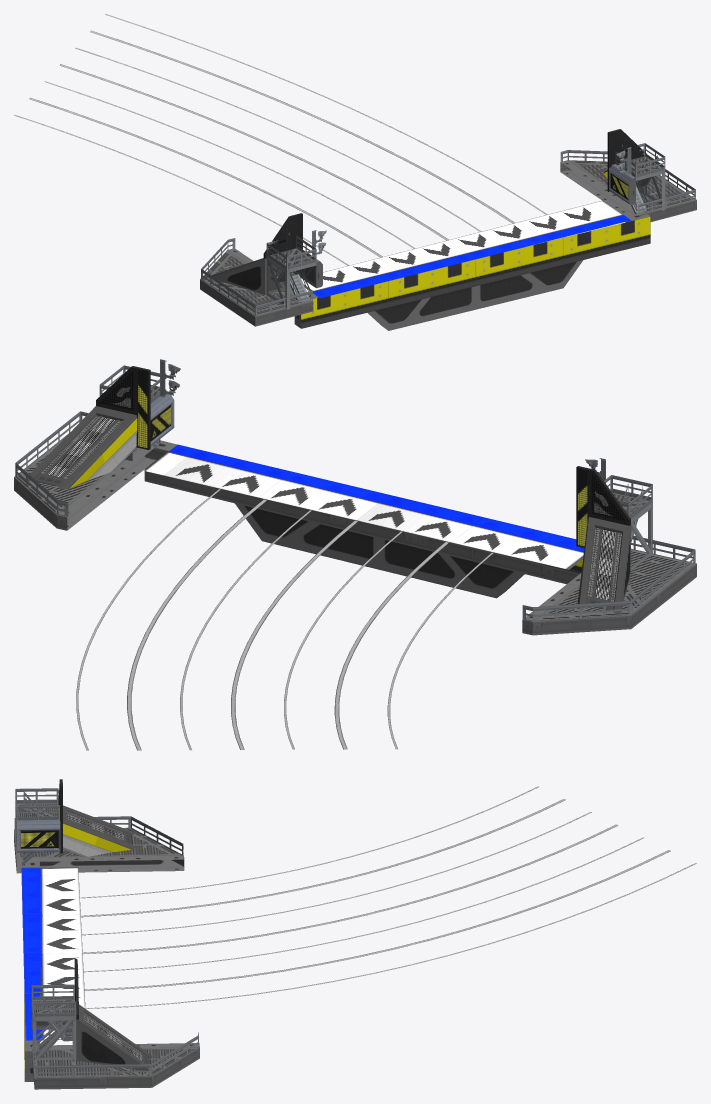
File: jump_gate_area_curved.fbx
The picture shows the model from 3 angles, top to bottom: view 1: azimuth 30°, elevation 25°; view 2: azimuth 150°, elevation 25°; view 3: azimuth 270°, elevation 25°; orthographic projection. The views are drawn at different scales.
Parts seen in each view (by area): view 1: gate, frontplate_jump, bak_cor_lines_jump; view 2: gate, bak_cor_lines_jump, frontplate_jump; view 3: gate, bak_cor_lines_jump, frontplate_jump.
Boxes of the visible parts, x1,y1,x2,y2 form: gate: [200, 129, 696, 326]; frontplate_jump: [294, 214, 650, 330]; bak_cor_lines_jump: [14, 14, 630, 298]; gate: [14, 359, 696, 635]; bak_cor_lines_jump: [76, 444, 584, 750]; frontplate_jump: [144, 440, 582, 598]; gate: [14, 779, 199, 1089]; bak_cor_lines_jump: [21, 786, 696, 1040]; frontplate_jump: [24, 861, 39, 1081].
Bounding box in the file's own units: 6003 × 1528 × 6825.
